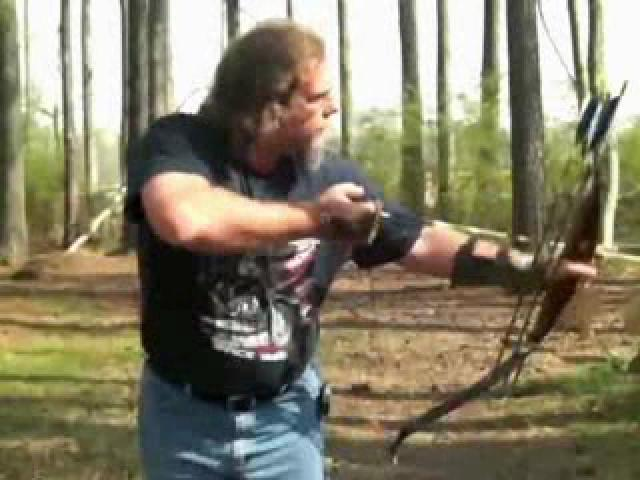I: (138, 13, 552, 466)
